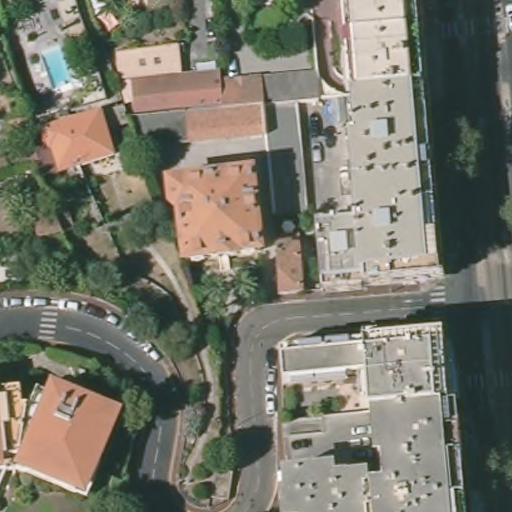pool: (42, 45, 73, 90)
